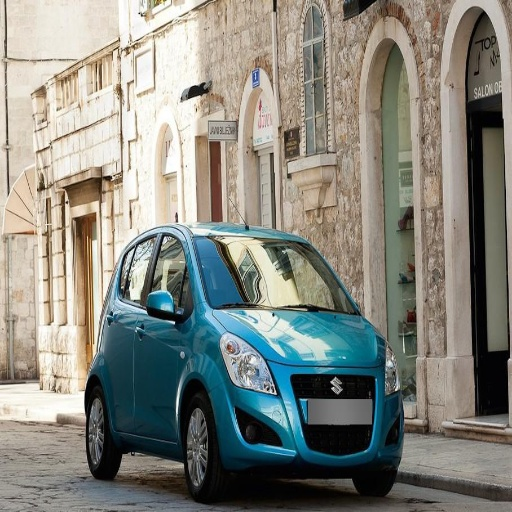front_bumper: (215, 359, 390, 475)
front_right_door: (135, 229, 188, 439)
front_right_light: (222, 335, 277, 395)
